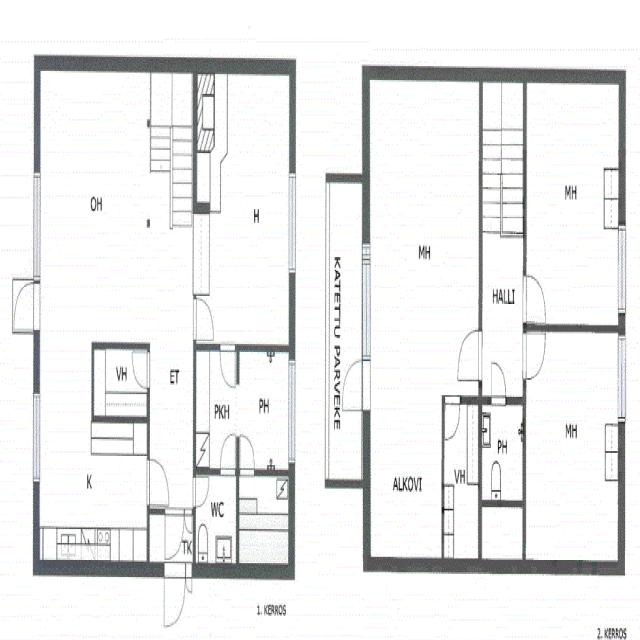door: (342, 361, 370, 410), (13, 282, 40, 330), (165, 566, 185, 629), (458, 332, 482, 381), (146, 460, 168, 506), (523, 334, 545, 380), (523, 277, 545, 323), (165, 509, 184, 558), (193, 298, 213, 339), (220, 345, 236, 386), (131, 352, 149, 388), (491, 362, 506, 404), (445, 397, 460, 439), (240, 436, 254, 475), (221, 436, 235, 475), (193, 477, 208, 506), (185, 566, 192, 597), (184, 509, 192, 534)
